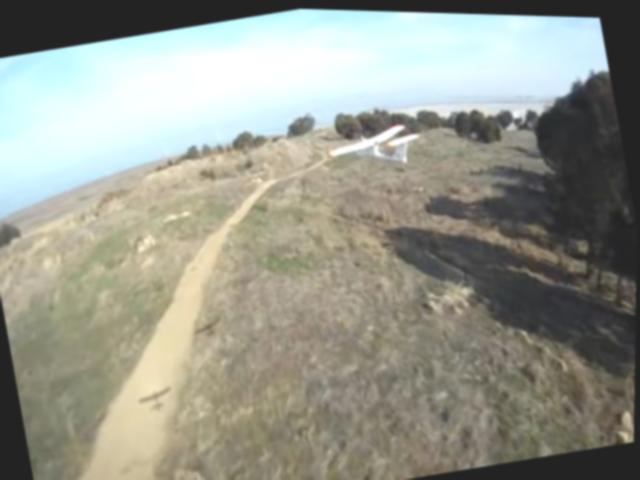uav: (316, 103, 431, 185)
